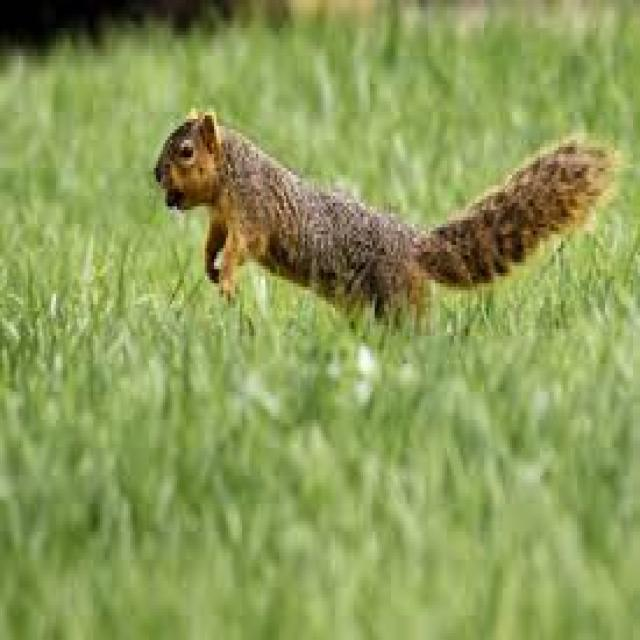Squirrel: (151, 112, 605, 330)
